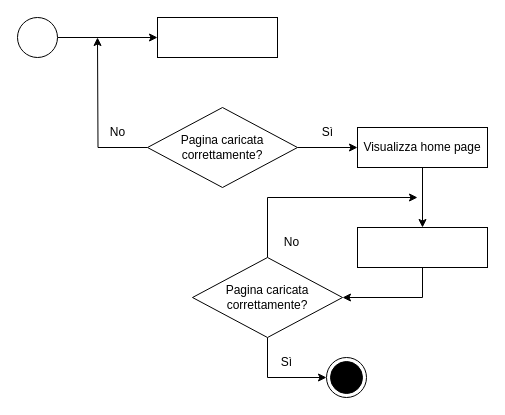
Image size: 505x415. Some labels were removed from this diagram. Here are the shapes that lost their labels. From the top down, the centre of each, then its label:
At pixel 217 37: "Richiedi home page".
At pixel 422 247: "Scegli una pagina da visualizzare".
